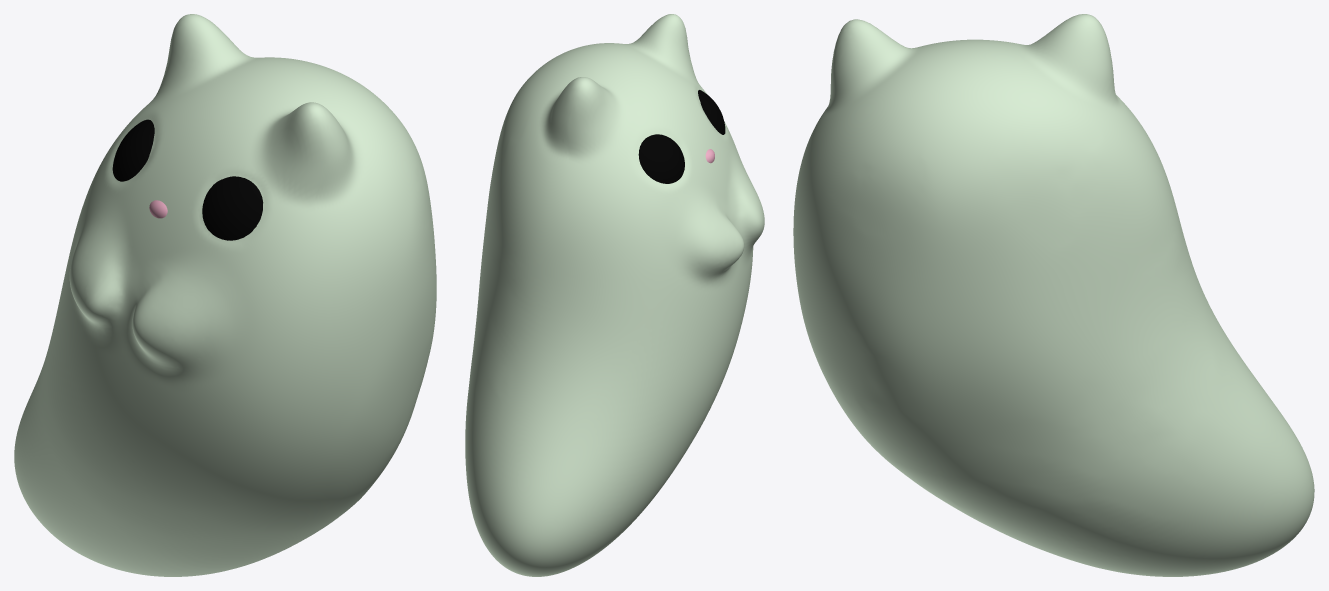
File: ghostCat.fbx
3 renders of one model, left to right at view 1: azimuth 30°, elevation 25°; view 2: azimuth 150°, elevation 25°; view 3: azimuth 270°, elevation 25°, orthographic. The views are drawn at different scales.
Parts seen in each view (by area): view 1: Quad Sphere, Sphère.001, Sphère; view 2: Quad Sphere, Sphère, Sphère.001; view 3: Quad Sphere.
Boxes of the visible parts, box(x1,y1,x2,y2) form: Quad Sphere: box(14, 14, 436, 576); Sphère.001: box(202, 176, 263, 240); Sphère: box(112, 119, 154, 181); Quad Sphere: box(465, 14, 764, 576); Sphère: box(638, 134, 684, 183); Sphère.001: box(698, 90, 725, 134); Quad Sphere: box(793, 14, 1314, 576).
Size of the model in its own units: 195 by 346 by 293.
